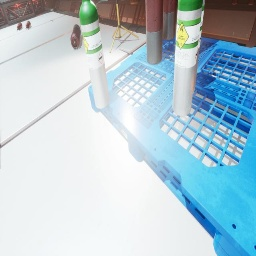0: (172, 0, 203, 116), (79, 0, 110, 109), (193, 0, 205, 93)
FireExtinguisher ]: (26, 21, 31, 29), (17, 23, 22, 31)
NitrogenTank ,: (146, 0, 164, 64), (163, 0, 177, 40), (70, 24, 81, 49), (145, 0, 147, 46)
